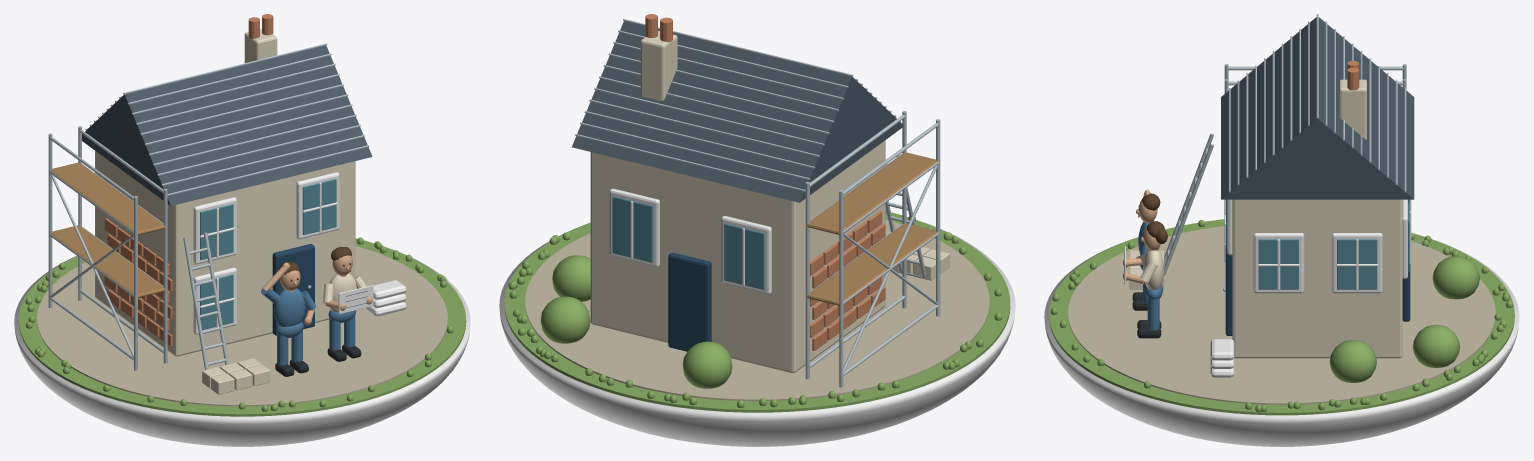
Rendered from maison-travaux.glb.
The picture shows the model from 3 angles, left to right: view 1: azimuth 30°, elevation 25°; view 2: azimuth 150°, elevation 25°; view 3: azimuth 270°, elevation 25°; orthographic projection. The views are drawn at different scales.
Visible parts, largest first — view 1: Toiture complete, Sol gravillonne, Maison, Coupole_identique_R3_P1.15, Plateau circulaire, Plancher echafaud.001, Plancher echafaud, Vitre.001, Porte, Vitre, Vitre.002, Cadre fenetre.001 (+24 smaller); view 2: Toiture complete, Maison, Sol gravillonne, Coupole_identique_R3_P1.15, Plateau circulaire, Porte jardin, Plancher echafaud.001, Plancher echafaud, Vitre arriere, Vitre arriere.001, Cheminee, Arbuste.001 (+20 smaller); view 3: Sol gravillonne, Toiture complete, Maison, Coupole_identique_R3_P1.15, Plateau circulaire, Vitre.004, Vitre.003, Arbuste.002, Arbuste, Arbuste.001, Cheminee, Cadre fenetre.003 (+7 smaller).
Boxes of the visible parts, left/top/right/bottom form: Toiture complete: left=82, top=45, right=372, bottom=205; Sol gravillonne: left=37, top=246, right=447, bottom=406; Maison: left=95, top=151, right=355, bottom=356; Coupole_identique_R3_P1.15: left=14, top=249, right=470, bottom=446; Plateau circulaire: left=18, top=238, right=466, bottom=416; Plancher echafaud.001: left=51, top=162, right=165, bottom=235; Plancher echafaud: left=50, top=225, right=165, bottom=297; Vitre.001: left=302, top=179, right=336, bottom=234; Porte: left=272, top=244, right=314, bottom=335; Vitre: left=200, top=204, right=233, bottom=259; Vitre.002: left=200, top=274, right=233, bottom=329; Cadre fenetre.001: left=296, top=172, right=339, bottom=239; Toiture complete: left=572, top=21, right=902, bottom=202; Maison: left=590, top=140, right=885, bottom=373; Sol gravillonne: left=525, top=220, right=989, bottom=401; Coupole_identique_R3_P1.15: left=499, top=223, right=1015, bottom=446; Plateau circulaire: left=504, top=212, right=1010, bottom=412; Porte jardin: left=668, top=252, right=711, bottom=351; Plancher echafaud.001: left=807, top=152, right=937, bottom=234; Plancher echafaud: left=807, top=223, right=937, bottom=305; Vitre arriere: left=724, top=223, right=764, bottom=289; Vitre arriere.001: left=612, top=196, right=652, bottom=262; Cheminee: left=640, top=30, right=677, bottom=100; Arbuste.001: left=540, top=296, right=590, bottom=343; Sol gravillonne: left=1068, top=226, right=1495, bottom=404; Toiture complete: left=1221, top=17, right=1414, bottom=199; Maison: left=1232, top=199, right=1402, bottom=358; Coupole_identique_R3_P1.15: left=1044, top=241, right=1519, bottom=446; Plateau circulaire: left=1049, top=219, right=1514, bottom=415; Vitre.004: left=1337, top=239, right=1377, bottom=289; Vitre.003: left=1258, top=239, right=1298, bottom=289; Arbuste.002: left=1432, top=256, right=1479, bottom=299; Arbuste: left=1329, top=340, right=1376, bottom=382; Arbuste.001: left=1412, top=324, right=1459, bottom=367; Cheminee: left=1339, top=79, right=1366, bottom=139; Cadre fenetre.003: left=1253, top=233, right=1304, bottom=293.
Bounding box in the file's own units: 6 × 5.01 × 6.
